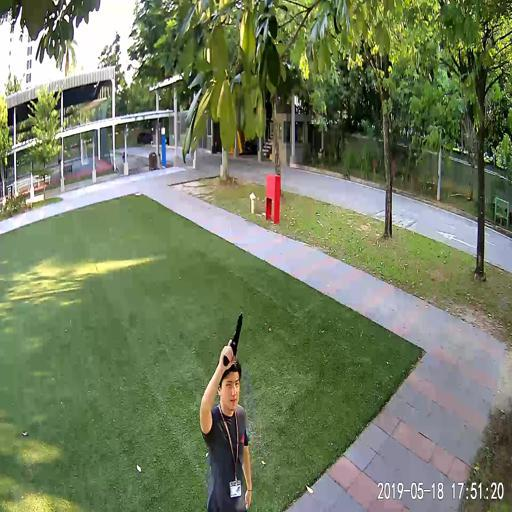Handgun: (221, 310, 242, 366)
